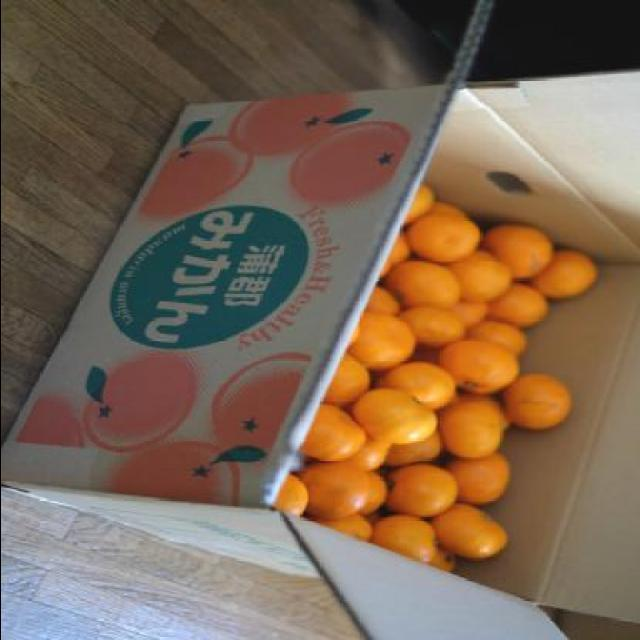Orange: (80, 350, 214, 448), (210, 348, 312, 457), (284, 120, 407, 208), (140, 137, 256, 225), (228, 84, 354, 150), (104, 445, 241, 503), (420, 496, 514, 558), (480, 220, 562, 274), (352, 389, 430, 445), (380, 466, 454, 523), (289, 462, 366, 513), (423, 210, 489, 266), (300, 402, 366, 458), (528, 245, 596, 298), (444, 396, 502, 458), (439, 340, 515, 386), (347, 316, 415, 367), (392, 258, 463, 304), (452, 452, 512, 506), (505, 378, 567, 426), (456, 251, 510, 303), (388, 368, 456, 408), (314, 358, 370, 406), (406, 304, 468, 346), (482, 284, 546, 322), (374, 523, 436, 560), (476, 327, 522, 361), (314, 514, 371, 538), (269, 477, 311, 509), (406, 187, 440, 225), (366, 288, 406, 314), (448, 302, 490, 326), (385, 228, 407, 266), (428, 554, 459, 574)
